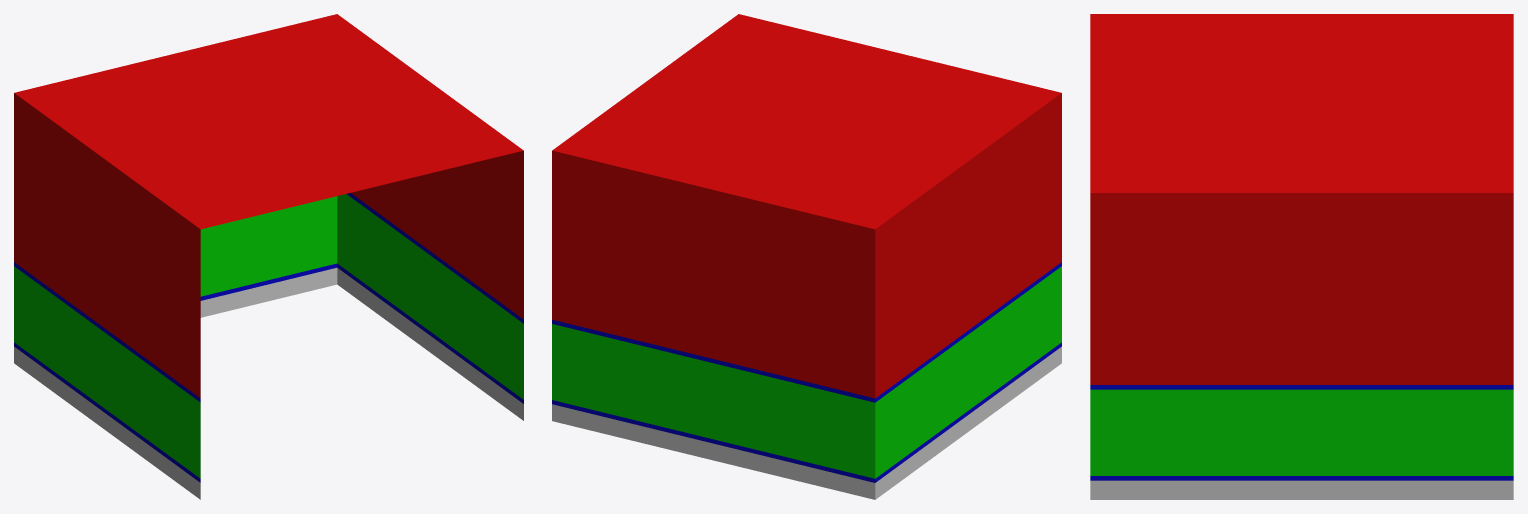
Rendered from SM_Room4x4Backsides.fbx.
The picture shows the model from 3 angles, left to right: view 1: azimuth 30°, elevation 25°; view 2: azimuth 150°, elevation 25°; view 3: azimuth 270°, elevation 25°; orthographic projection. The views are drawn at different scales.
Parts seen in each view (by area): view 1: SM_Room4x4Backsides; view 2: SM_Room4x4Backsides; view 3: SM_Room4x4Backsides.
Part boxes in pixels (x1,y1,x2,y2): SM_Room4x4Backsides: [14, 14, 523, 499]; SM_Room4x4Backsides: [552, 14, 1061, 499]; SM_Room4x4Backsides: [1090, 14, 1513, 499].
Size of the model in its own units: 400 by 320 by 400.
